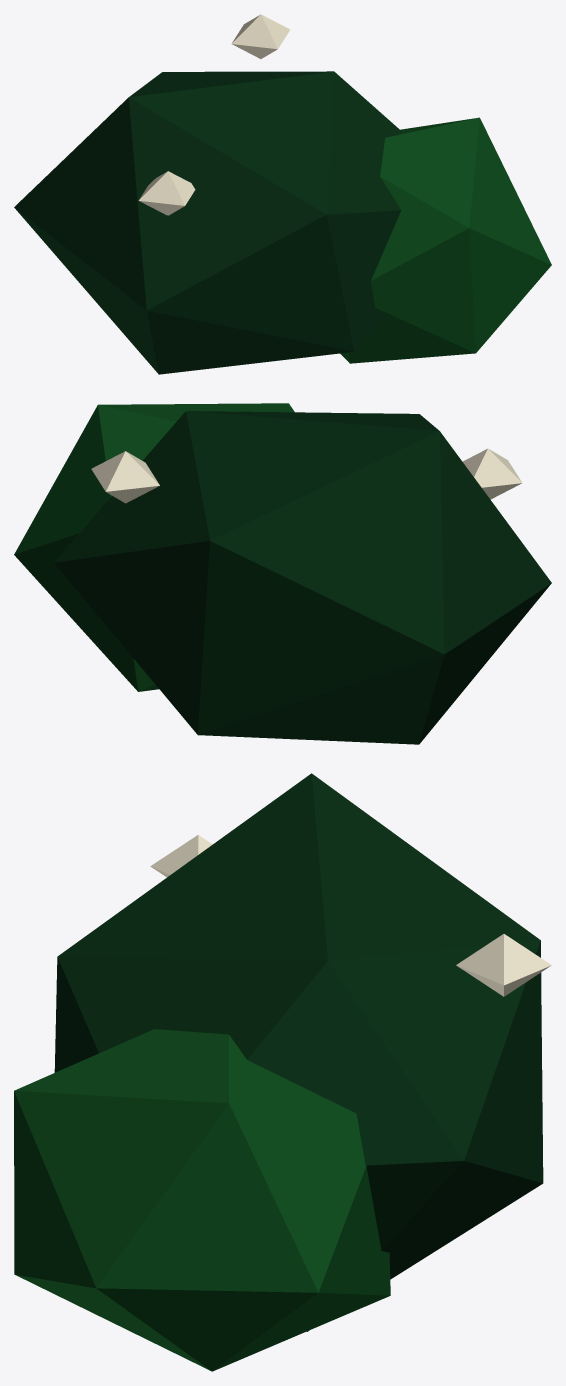
File: world_bush_b.fbx
3 views of the same model, one above another, from view 1: azimuth 30°, elevation 25°; view 2: azimuth 150°, elevation 25°; view 3: azimuth 270°, elevation 25° (orthographic). The views are drawn at different scales.
Visible parts, largest first — view 1: world_bush_b; view 2: world_bush_b; view 3: world_bush_b.
Boxes of the visible parts, x1,y1,x2,y2 form: world_bush_b: [14, 14, 551, 374]; world_bush_b: [14, 403, 551, 744]; world_bush_b: [14, 773, 551, 1371].
Size of the model in its own units: 314 by 204 by 246.
